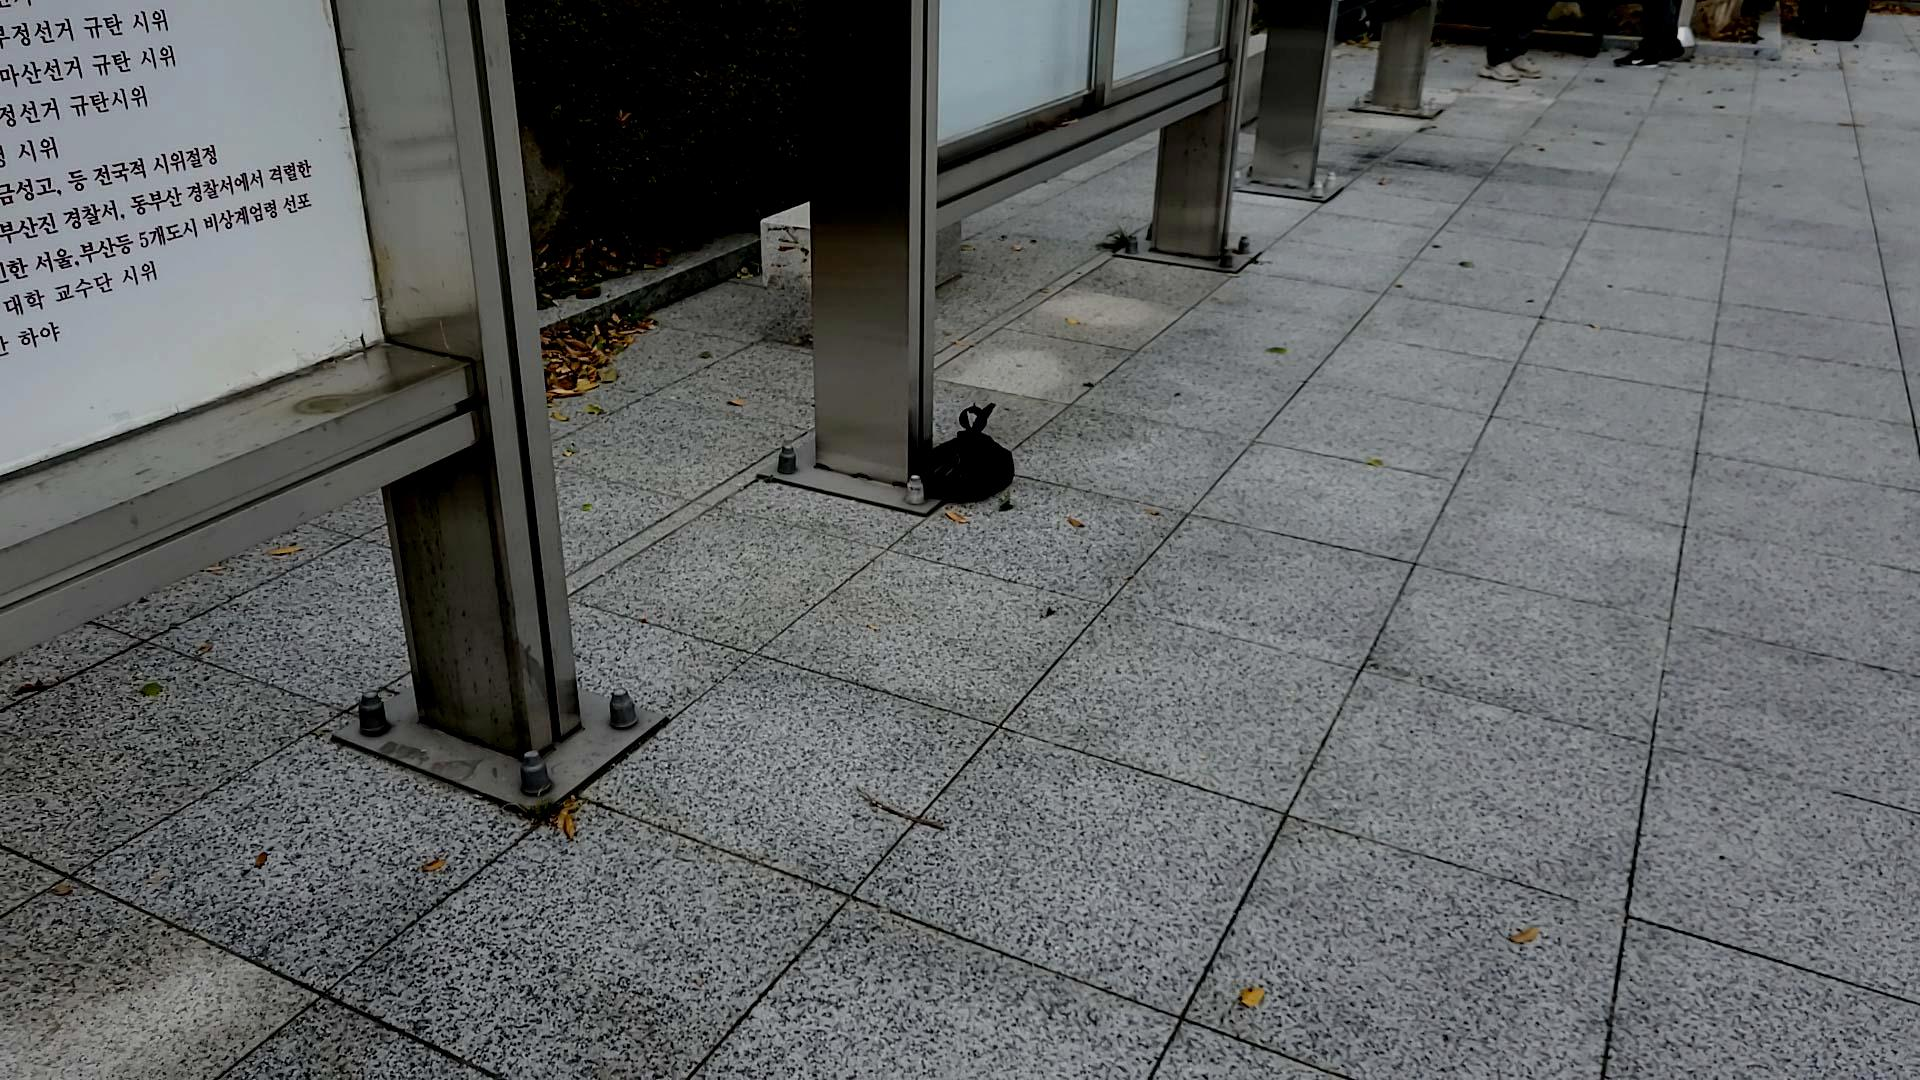black_bag: (907, 393, 1030, 506)
